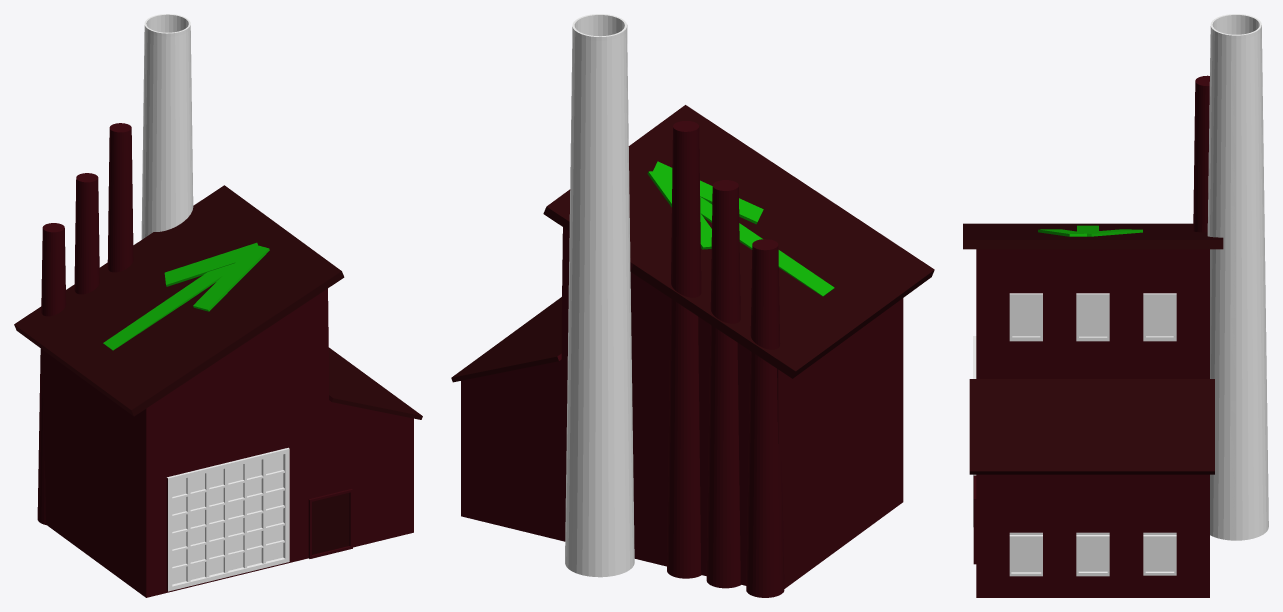
The model's file is factoryUpgrade.glb.
3 views of the same model, side by side, from view 1: azimuth 30°, elevation 25°; view 2: azimuth 150°, elevation 25°; view 3: azimuth 270°, elevation 25° (orthographic). The views are drawn at different scales.
Visible parts, largest first — view 1: Cube.194, Cube.195, Cube.197, Cube.196, Cube.198, Cube.199, Cube.001, Cube.002, Cube; view 2: Cube.194, Cube.195, Cube.199, Cube.198, Cube.001, Cube.002, Cube; view 3: Cube.194, Cube.195, Cube.198, Cube.199, Cube.197, Cube.196.
Part boxes in pixels (x1,y1,x2,y2): Cube.194: (37, 123, 413, 597); Cube.195: (14, 185, 422, 554); Cube.197: (172, 454, 283, 584); Cube.196: (167, 447, 289, 591); Cube.198: (141, 18, 193, 239); Cube.199: (141, 14, 193, 234); Cube.001: (103, 263, 234, 350); Cube.002: (193, 244, 269, 311); Cube: (164, 242, 258, 286); Cube.194: (461, 121, 903, 597); Cube.195: (451, 105, 934, 382); Cube.199: (565, 14, 634, 577); Cube.198: (565, 19, 634, 547); Cube.001: (700, 197, 834, 296); Cube.002: (651, 161, 763, 224); Cube: (647, 171, 711, 249); Cube.194: (973, 75, 1209, 597); Cube.195: (963, 223, 1223, 474); Cube.198: (1208, 18, 1268, 512); Cube.199: (1207, 14, 1268, 540); Cube.197: (1011, 298, 1174, 572); Cube.196: (973, 293, 1176, 576).
Size of the model in its own units: 6.45 by 9.52 by 5.23.
